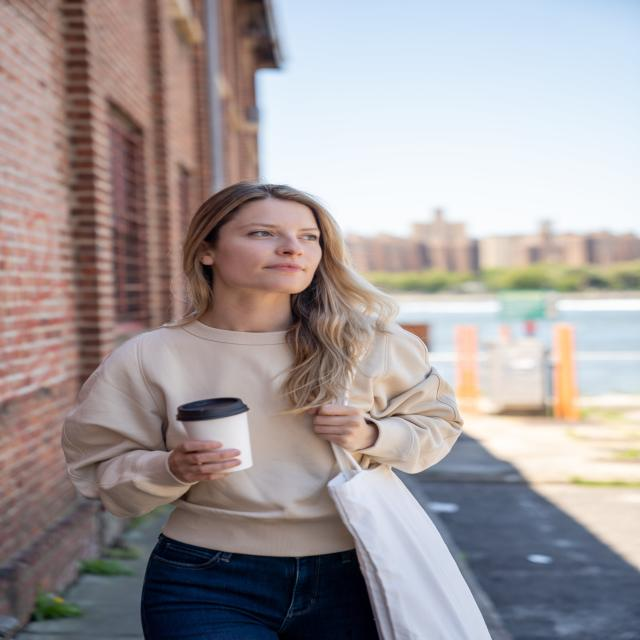cup: (175, 397, 256, 473)
